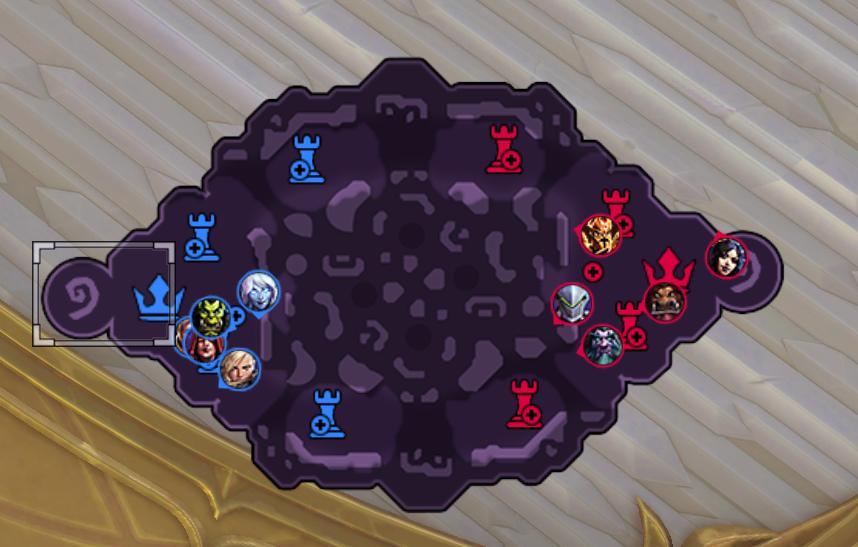blue nexus: (131, 272, 186, 322)
blue player: (173, 315, 223, 366), (236, 268, 280, 319), (188, 295, 233, 340), (216, 347, 261, 391), (550, 281, 592, 325)
blue tower: (307, 386, 346, 438), (287, 132, 325, 184), (182, 210, 220, 262)
red nexus: (642, 245, 694, 293)
red player: (573, 212, 621, 258), (579, 323, 623, 367), (641, 280, 686, 323), (705, 235, 748, 279)
red tower: (484, 122, 523, 174), (504, 377, 543, 429), (615, 298, 648, 350), (601, 187, 634, 239)
